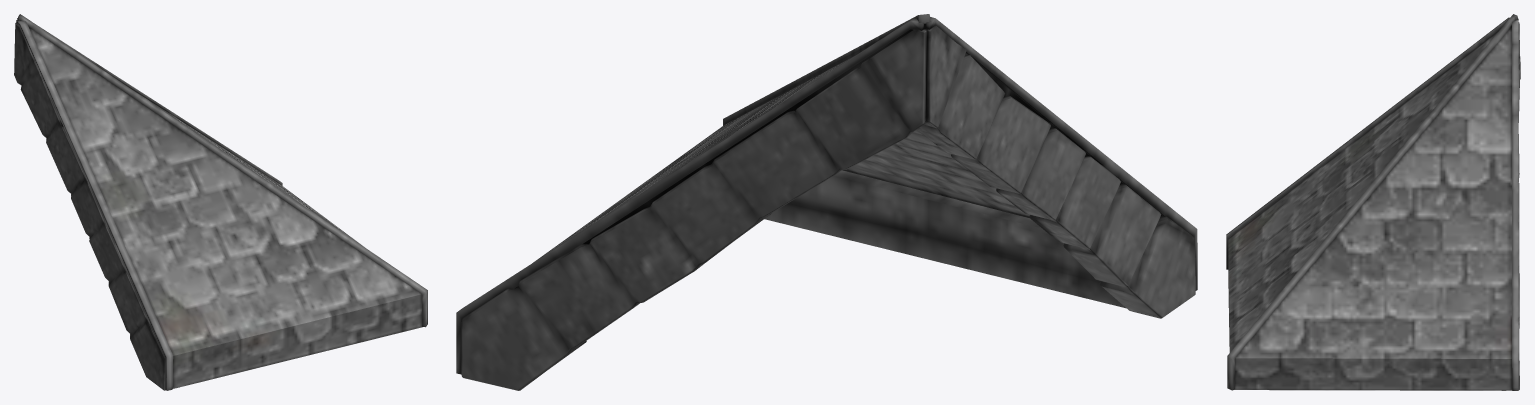
Rendered from SM_RoofCorner_Stone_b7bc42.glb.
The picture shows the model from 3 angles, left to right: view 1: azimuth 30°, elevation 25°; view 2: azimuth 150°, elevation 25°; view 3: azimuth 270°, elevation 25°; orthographic projection. The views are drawn at different scales.
Bounding box in the file's own units: 4.09 × 3.91 × 4.08.
1 material, 1 textured.
